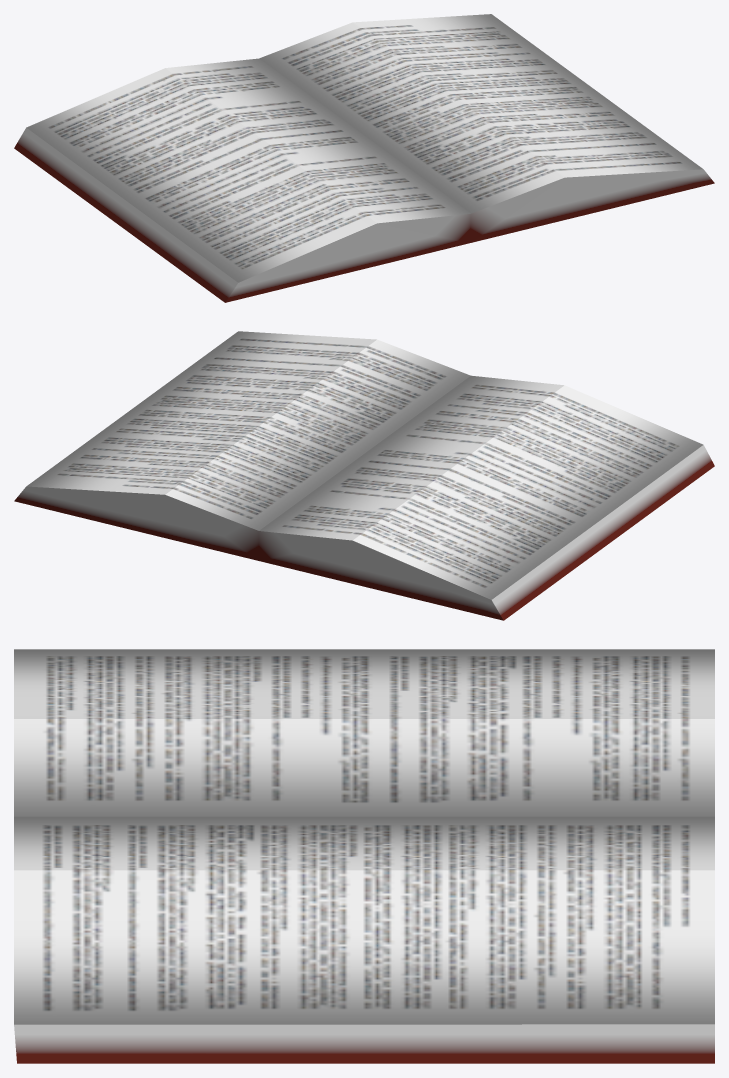
File: Mini_Object_003.fbx
3 renders of one model, top to bottom at view 1: azimuth 30°, elevation 25°; view 2: azimuth 150°, elevation 25°; view 3: azimuth 270°, elevation 25°, orthographic. The views are drawn at different scales.
Parts seen in each view (by area): view 1: Mini_Object_003; view 2: Mini_Object_003; view 3: Mini_Object_003.
Part boxes in pixels (bbox=[...]): Mini_Object_003: bbox=[14, 14, 714, 302]; Mini_Object_003: bbox=[14, 331, 714, 620]; Mini_Object_003: bbox=[14, 649, 714, 1063].
Bounding box in the file's own units: 40 × 3.38 × 30.
